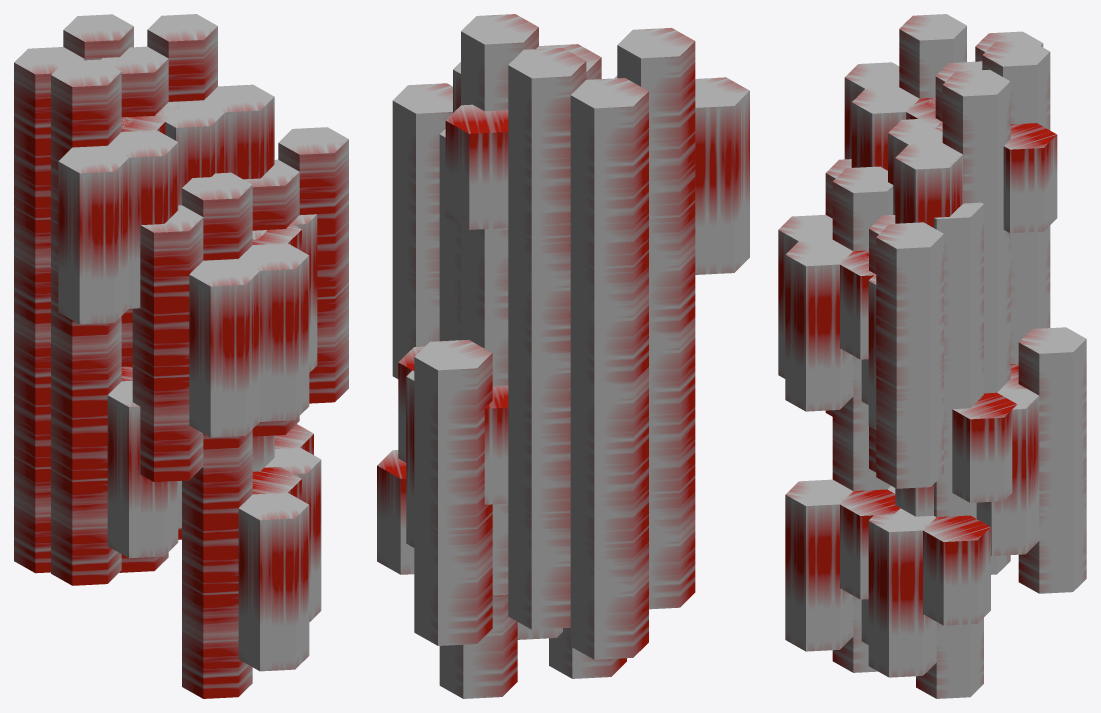
Rendered from HexMWall.fbx.
The picture shows the model from 3 angles, left to right: view 1: azimuth 30°, elevation 25°; view 2: azimuth 150°, elevation 25°; view 3: azimuth 270°, elevation 25°; orthographic projection. The views are drawn at different scales.
Parts seen in each view (by area): view 1: polySurface322; view 2: polySurface322; view 3: polySurface322.
Boxes of the visible parts, x1=… form: polySurface322: x1=14, y1=14, x2=348, y2=698; polySurface322: x1=377, y1=14, x2=749, y2=698; polySurface322: x1=778, y1=14, x2=1086, y2=698.
Bounding box in the file's own units: 32.14 × 63.98 × 30.45.
Materials: 1 (1 with a texture image).
